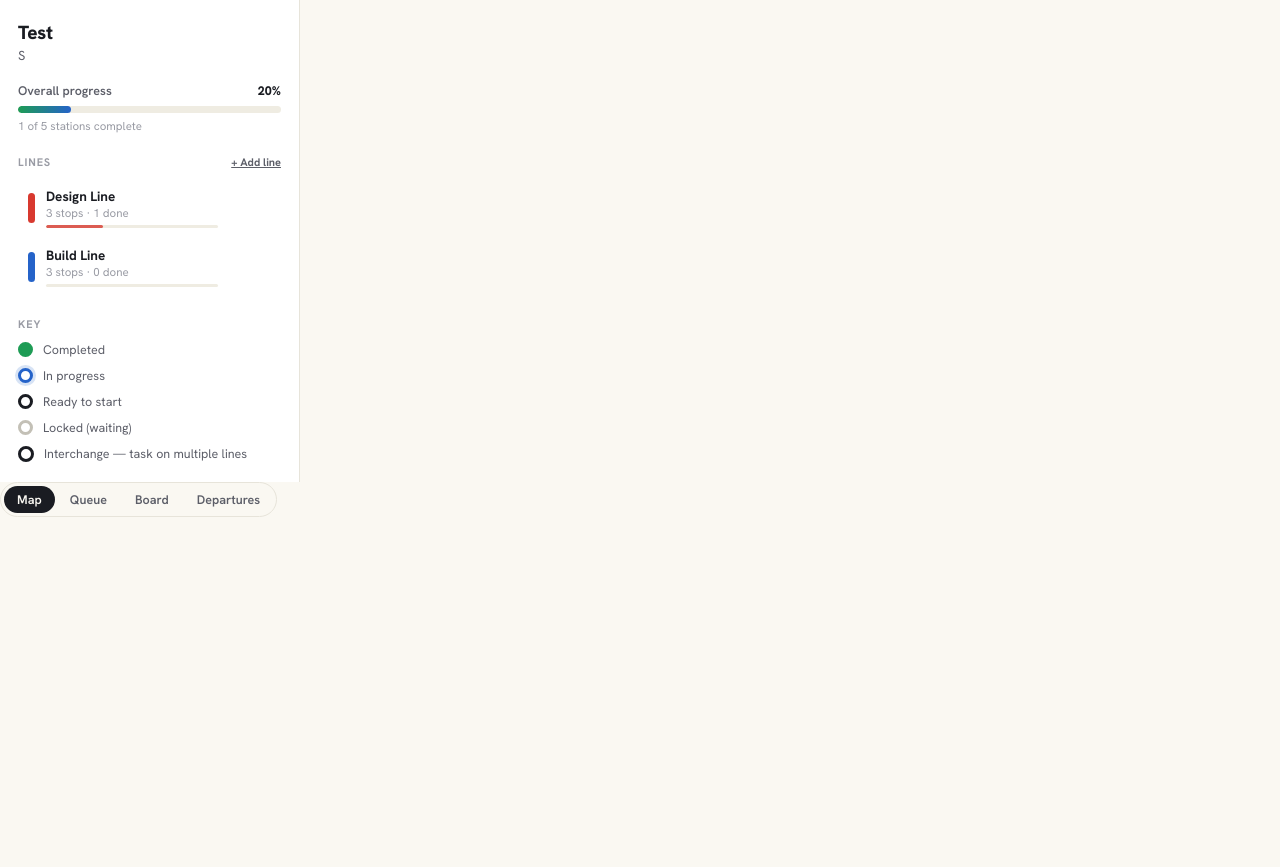
Test case: line filtering on the boards › Departures removes them entirely in hide mode
Expected: the element with class "lines-list" is shown, [18,179,228,295]
Click the button "Departures" at (228, 500), box [184,486,273,513]
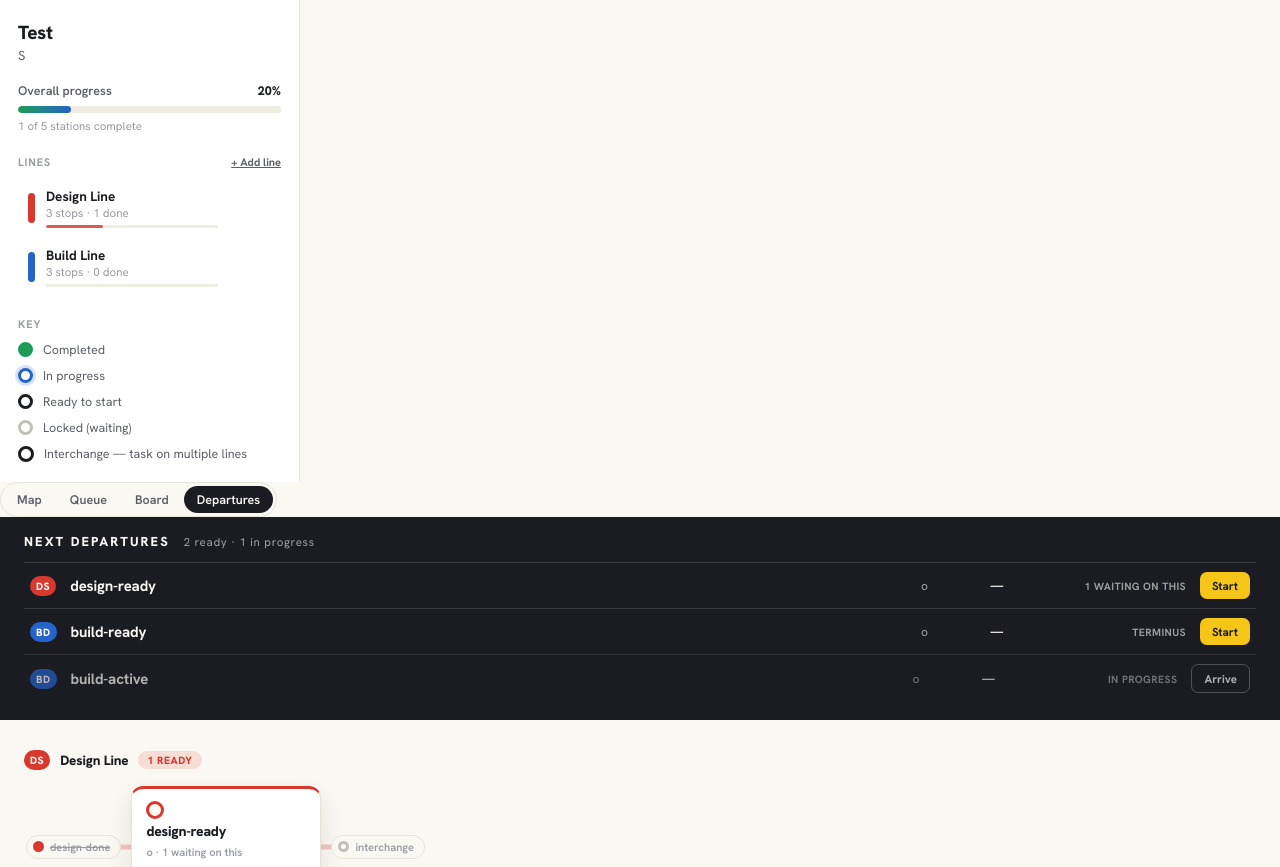
Click the button with class "line-row-btn" showing "Design Line 3 stops · 1 done" at (123, 208), box [18,179,228,236]
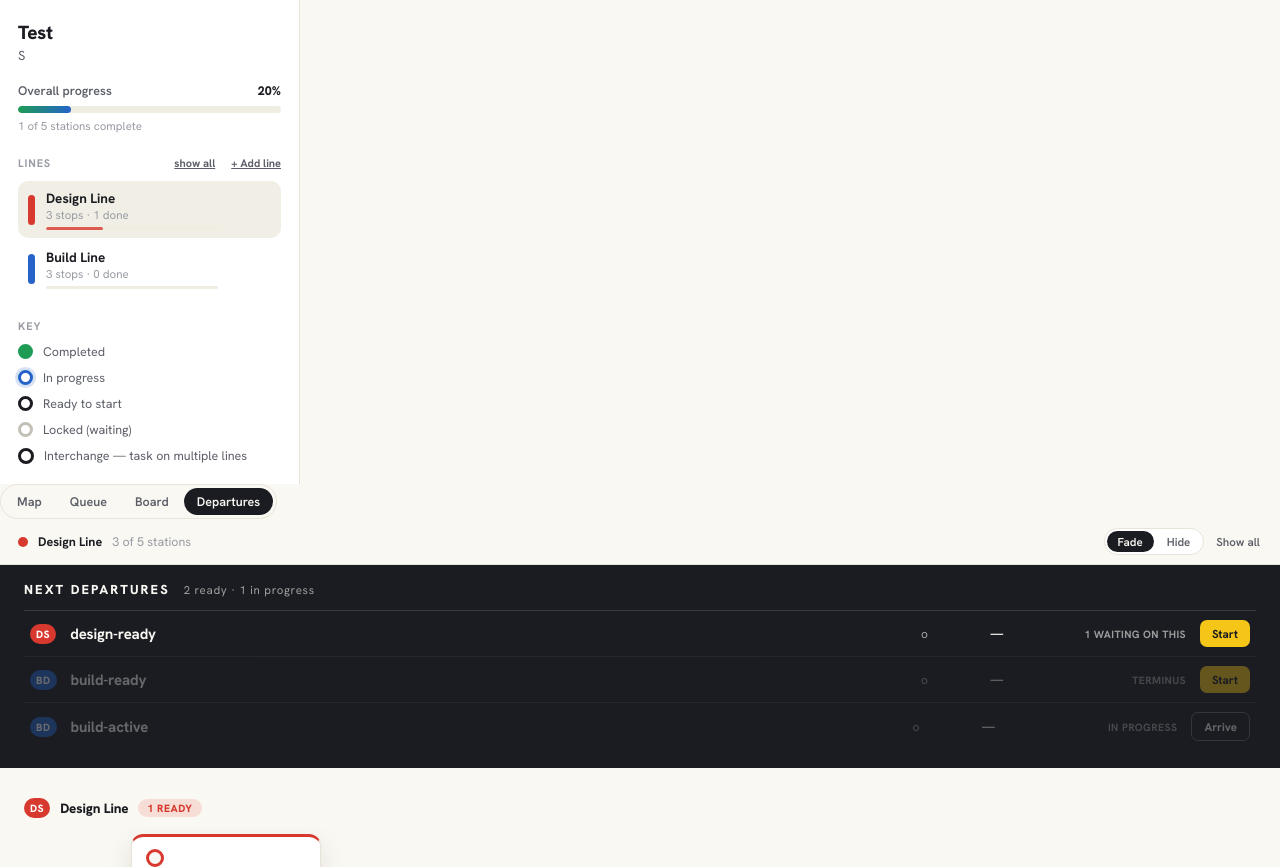
Result: the element with class "filter-bar" is shown at [0,519,1279,565]
Click the button with class "filter-seg" showing "Hide" at (1179, 542), box [1156,531,1201,552]
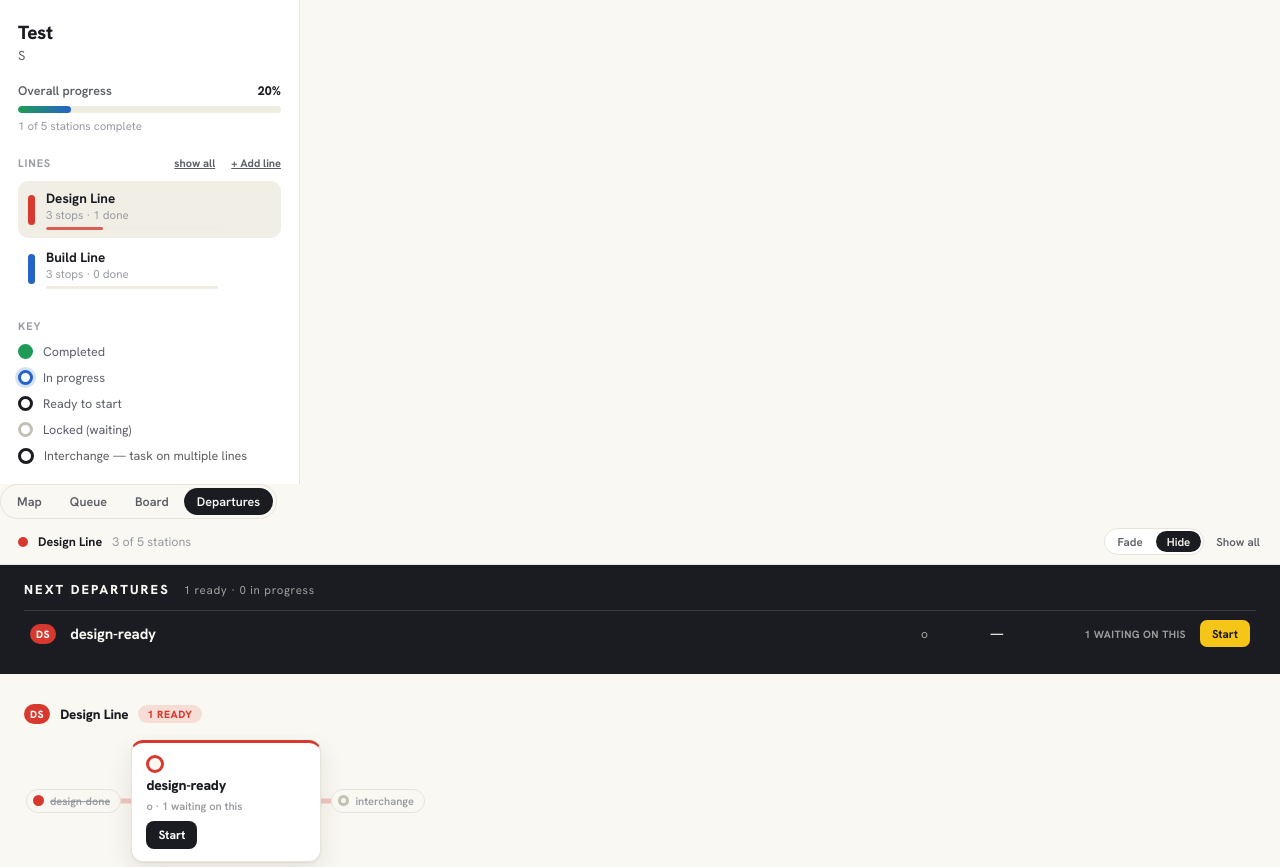
Result: no list items with class "dim" are shown
